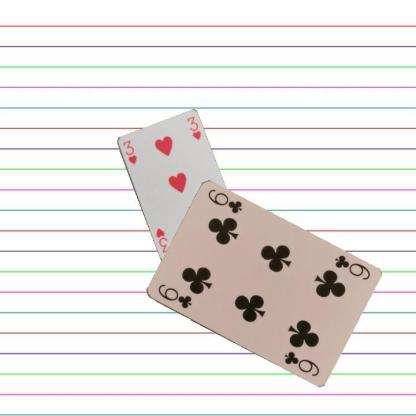3h: (120, 138, 138, 165)
6c: (331, 252, 372, 282), (155, 282, 193, 310)
